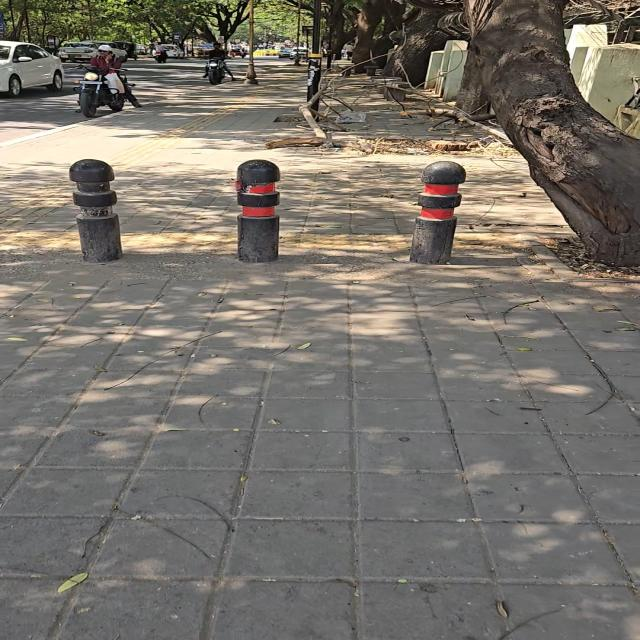bench: (410, 162, 465, 264), (70, 159, 122, 262), (236, 160, 280, 262), (310, 108, 347, 131), (266, 137, 325, 148), (364, 65, 378, 76)
bike: (75, 67, 125, 117), (307, 0, 321, 101), (245, 0, 257, 84), (294, 0, 301, 65), (327, 5, 334, 69), (207, 58, 224, 84), (9, 0, 17, 39), (24, 6, 31, 41), (154, 48, 167, 63)
